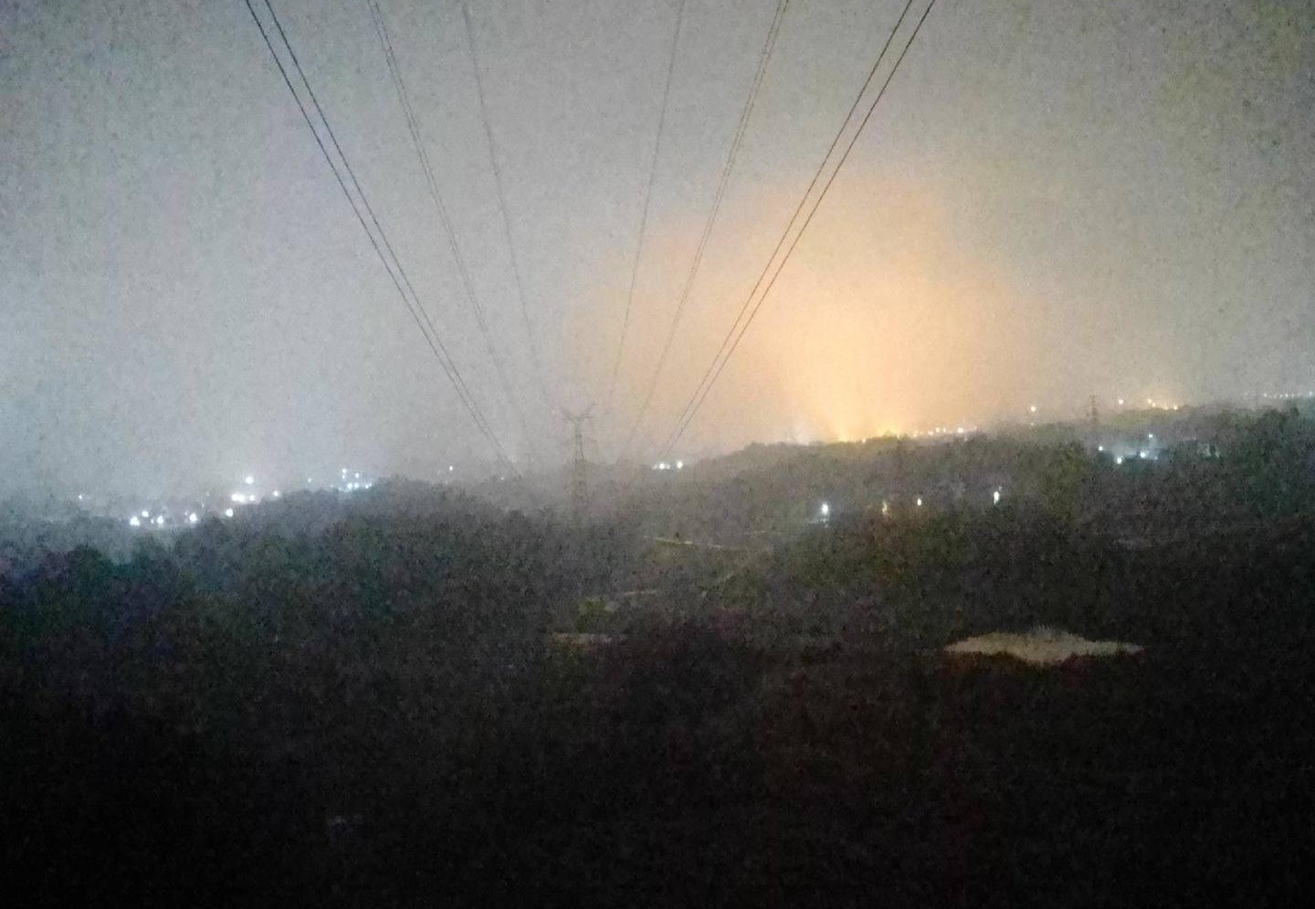过爆灯光: (231, 493, 244, 501), (129, 517, 139, 525), (245, 475, 253, 483), (226, 508, 233, 517), (156, 516, 163, 523), (189, 513, 196, 520), (822, 504, 827, 513), (994, 491, 998, 502), (142, 510, 148, 516), (249, 495, 255, 500), (273, 490, 278, 496)
